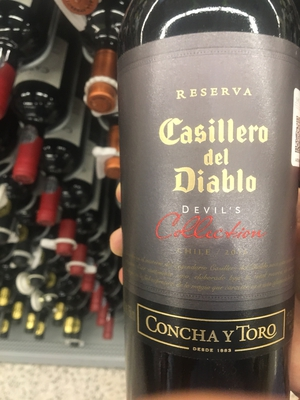casillero del diablo devils collection rojo: (113, 12, 299, 400)
